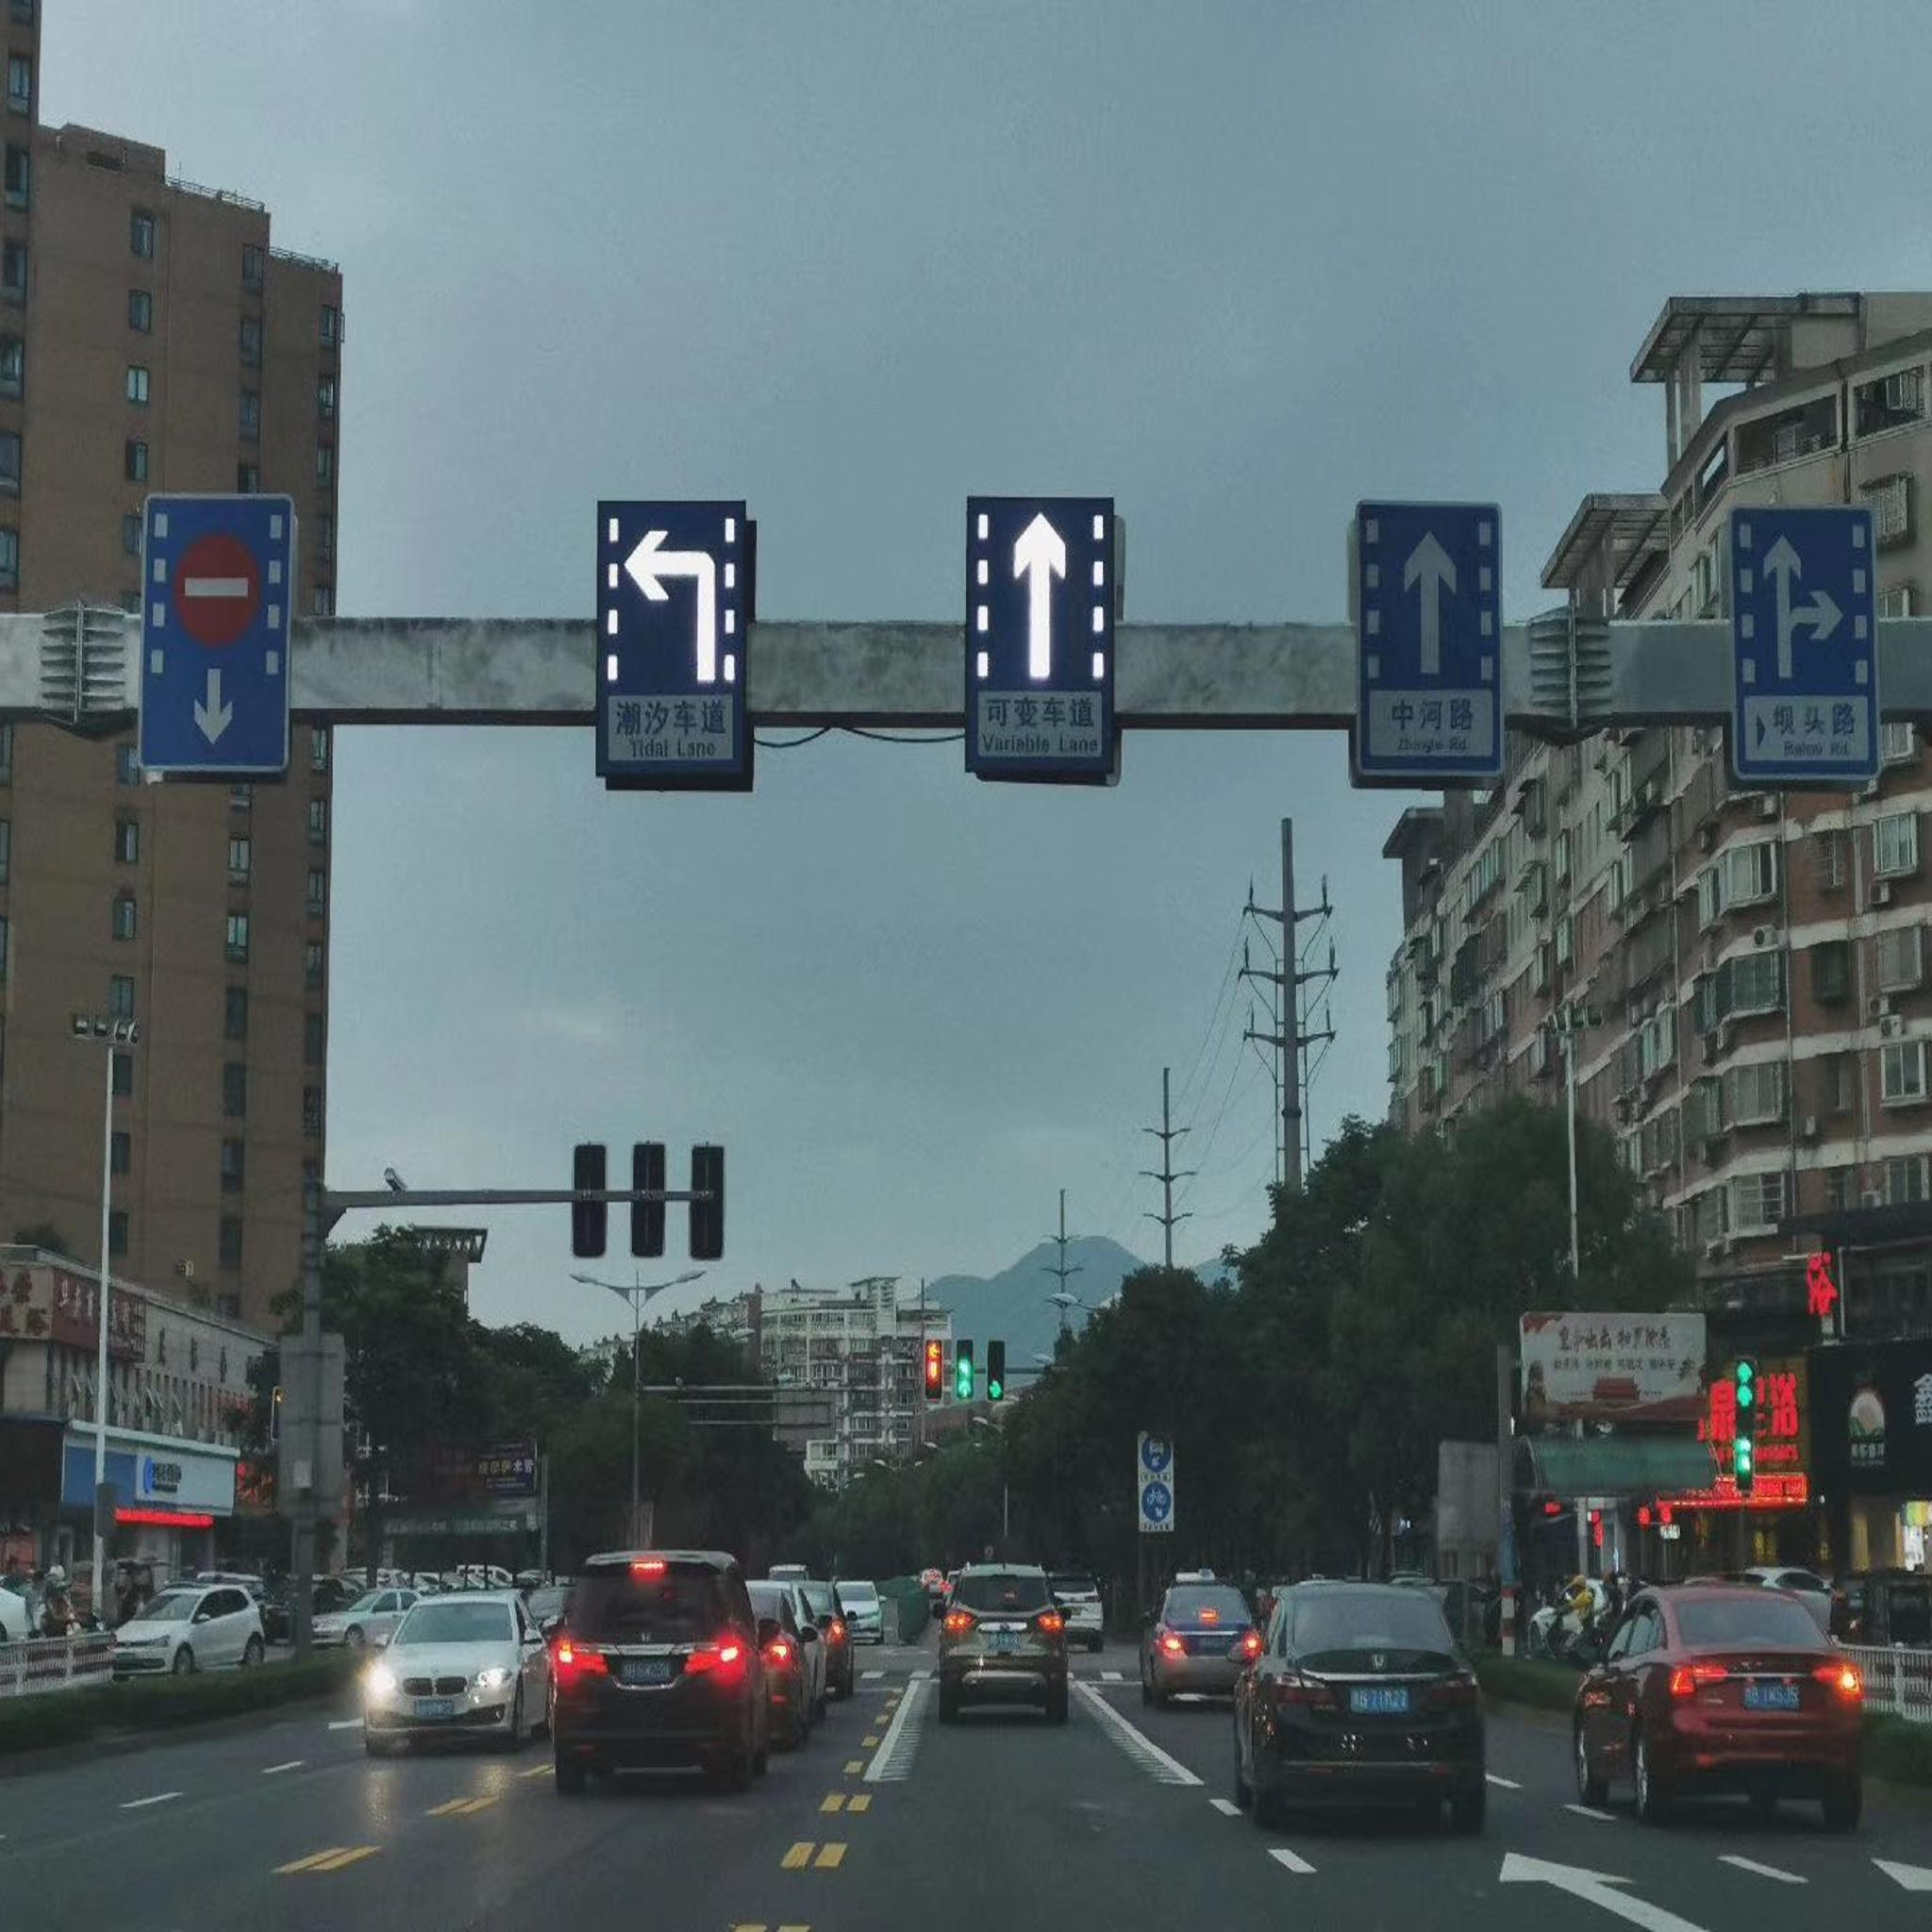pne: (177, 534, 264, 649)
